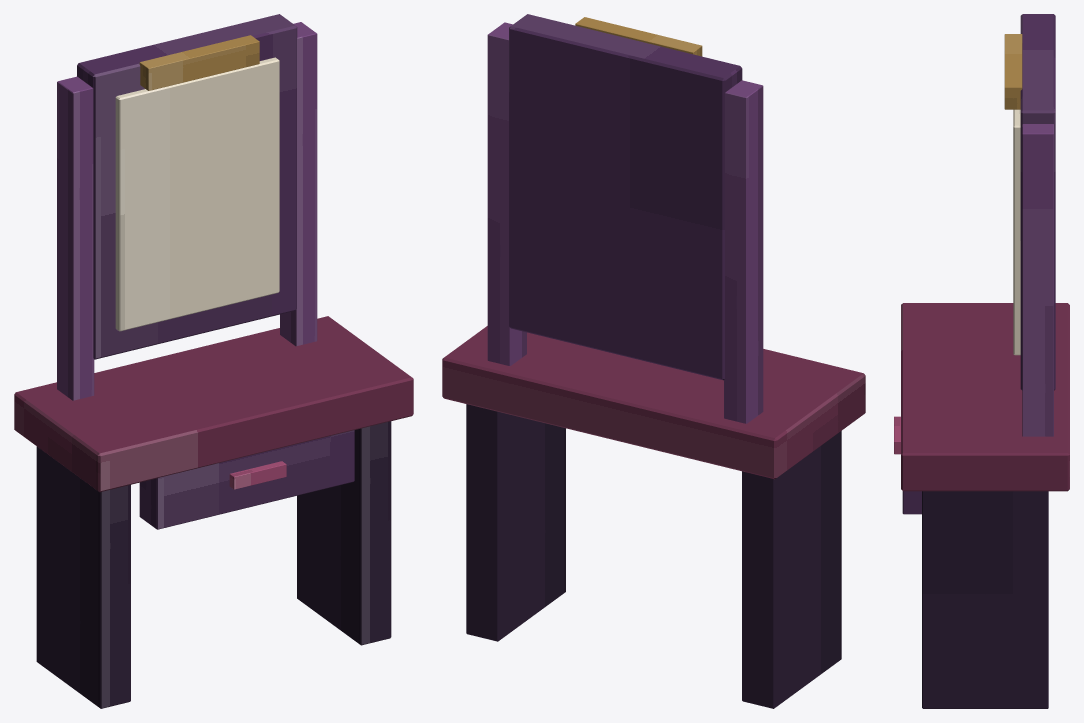
File: bedroom_vanity_violet.glb
3 views of the same model, side by side, from view 1: azimuth 30°, elevation 25°; view 2: azimuth 150°, elevation 25°; view 3: azimuth 270°, elevation 25° (orthographic). The views are drawn at different scales.
Parts seen in each view (by area): view 1: VanityTop, VanityMirrorGlass, VanityLeg_L, VanityMirrorBack, VanityLeg_R, MirrorPost_L, VanityDrawer, MirrorPost_R, VanityAccent, VanityHandle; view 2: VanityMirrorBack, VanityTop, VanityLeg_L, VanityLeg_R, MirrorPost_L, MirrorPost_R, VanityAccent; view 3: VanityLeg_R, VanityTop, MirrorPost_R, VanityMirrorBack, VanityMirrorGlass, VanityAccent, VanityDrawer.
Boxes of the visible parts, box(x1,y1,x2,y2) form: VanityTop: box(14, 316, 413, 492); VanityMirrorGlass: box(115, 57, 279, 331); VanityLeg_L: box(36, 446, 130, 708); VanityMirrorBack: box(77, 14, 297, 359); VanityLeg_R: box(297, 421, 391, 645); MirrorPost_L: box(57, 76, 94, 400); VanityDrawer: box(139, 430, 354, 529); MirrorPost_R: box(280, 22, 317, 346); VanityAccent: box(139, 35, 259, 90); VanityHandle: box(229, 461, 286, 489); VanityMirrorBack: box(509, 14, 742, 380); VanityTop: box(442, 326, 865, 479); VanityLeg_L: box(742, 431, 841, 708); VanityLeg_R: box(466, 404, 565, 641); MirrorPost_L: box(724, 80, 763, 423); MirrorPost_R: box(487, 22, 526, 365); VanityAccent: box(575, 17, 702, 56); VanityLeg_R: box(922, 491, 1048, 708); VanityTop: box(901, 303, 1069, 491); MirrorPost_R: box(1022, 124, 1053, 436); VanityMirrorBack: box(1020, 14, 1055, 390); VanityMirrorGlass: box(1013, 109, 1020, 355); VanityAccent: box(1004, 34, 1022, 109); VanityDrawer: box(902, 491, 921, 514).
Bounding box in the file's own units: 1.02 × 1.81 × 0.4995.
1 material, 1 textured.
